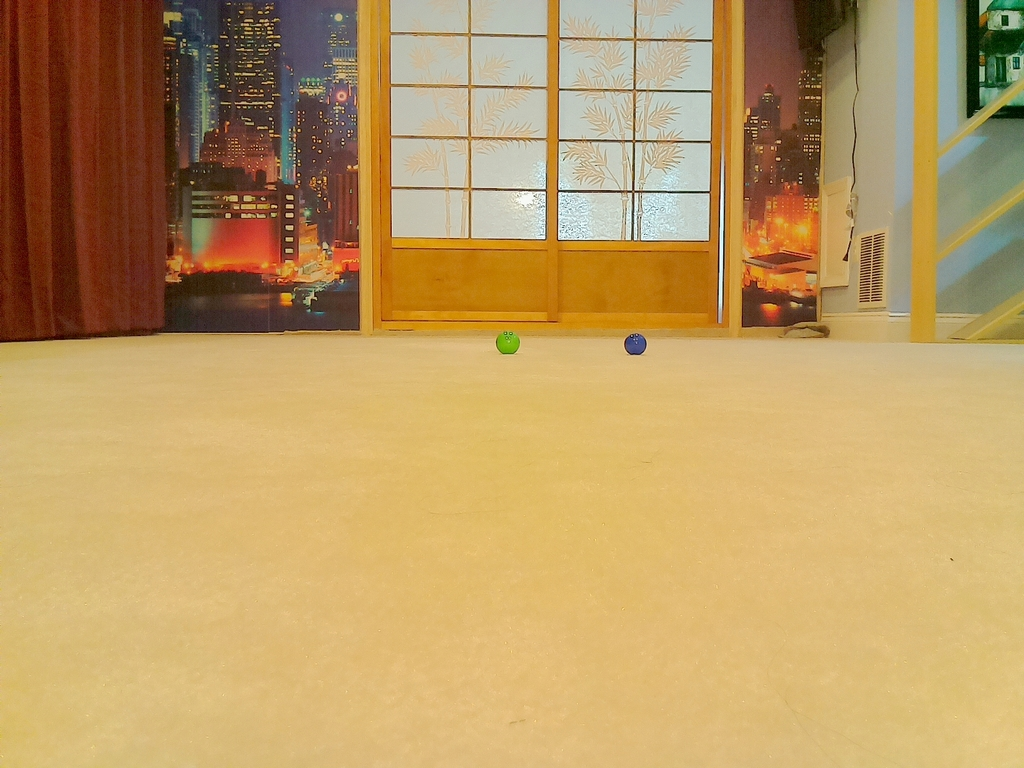ball: (624, 333, 646, 354)
